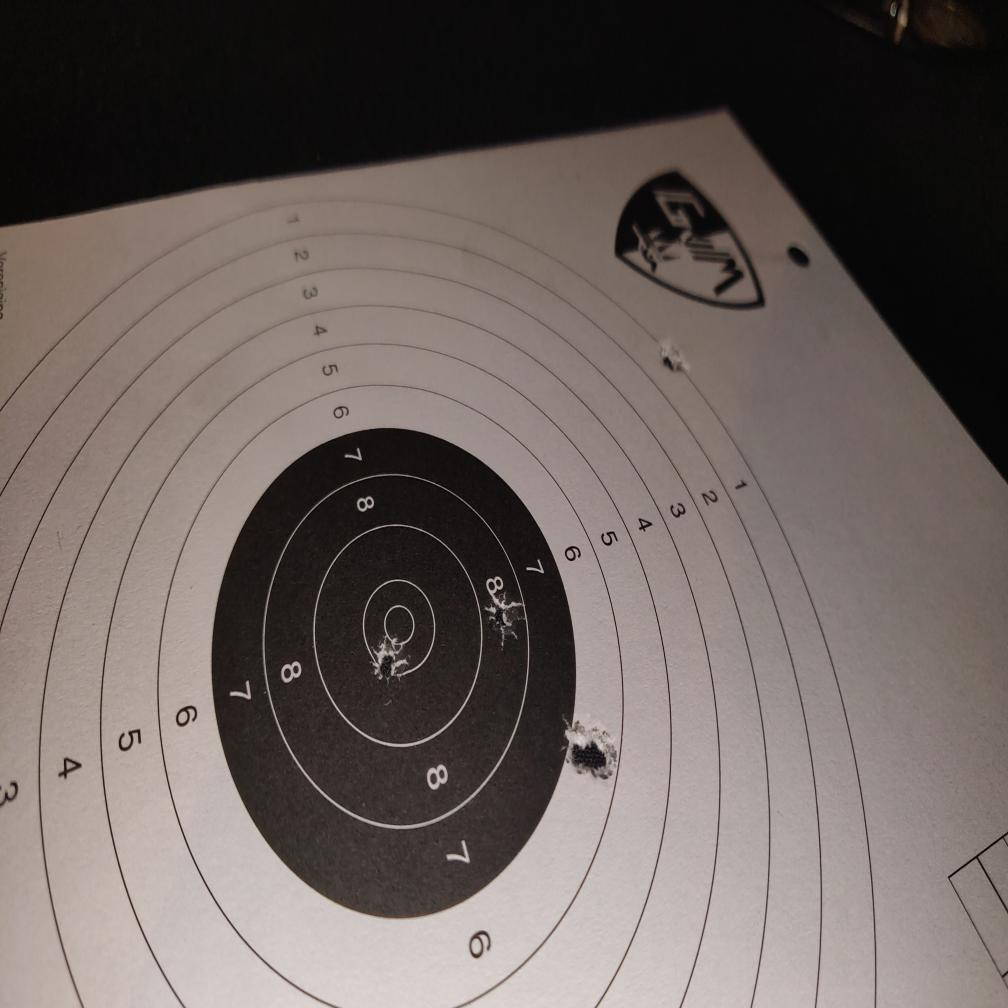1: (657, 338, 692, 379)
10: (367, 633, 412, 688)
7: (562, 708, 619, 788)
8: (482, 585, 526, 648)
Target: (0, 194, 880, 1008)
black_contour: (213, 426, 576, 921)
